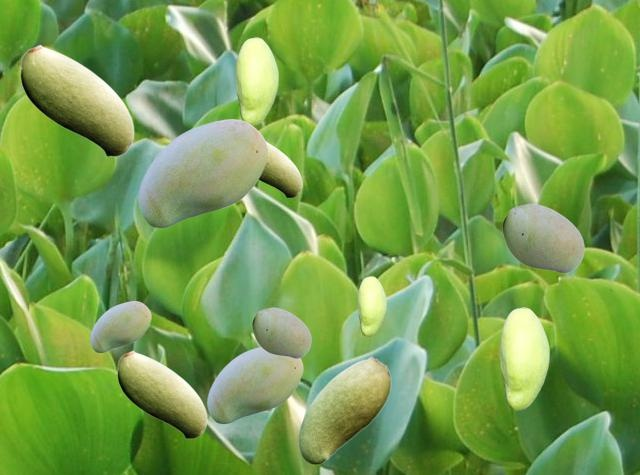green_mango: (138, 119, 267, 226), (20, 44, 133, 156), (298, 356, 390, 463), (117, 350, 206, 438), (207, 346, 302, 422), (502, 203, 583, 272), (499, 307, 548, 409), (235, 37, 277, 125), (90, 301, 150, 351), (252, 307, 310, 357), (259, 142, 301, 197), (357, 276, 385, 335)
